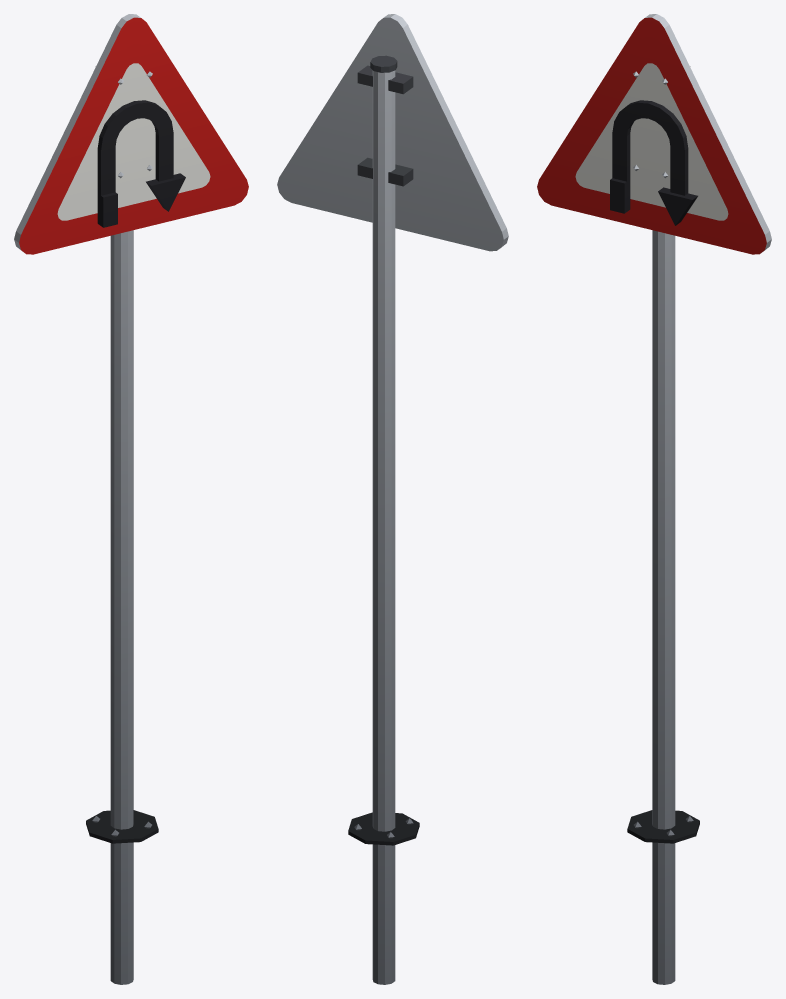
File: Sign_Hairpin.fbx
3 renders of one model, left to right at view 1: azimuth 30°, elevation 25°; view 2: azimuth 150°, elevation 25°; view 3: azimuth 330°, elevation 25°, orthographic.
Visible parts, largest first — view 1: Sign_Hairpin_LOD0; view 2: Sign_Hairpin_LOD0; view 3: Sign_Hairpin_LOD0.
Boxes of the visible parts, left/top/right/bottom form: Sign_Hairpin_LOD0: left=14, top=14, right=248, bottom=984; Sign_Hairpin_LOD0: left=277, top=14, right=508, bottom=984; Sign_Hairpin_LOD0: left=537, top=14, right=771, bottom=984.
Size of what is drawn, in the model's own units: 0.7928 by 3.2 by 0.224.
1 material, 1 textured.
